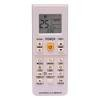remote control: (30, 10, 72, 95)
